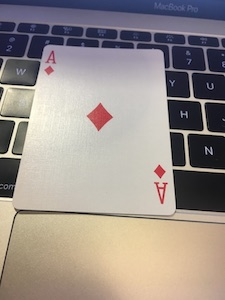AceOfDiamonds: (12, 42, 181, 221)
